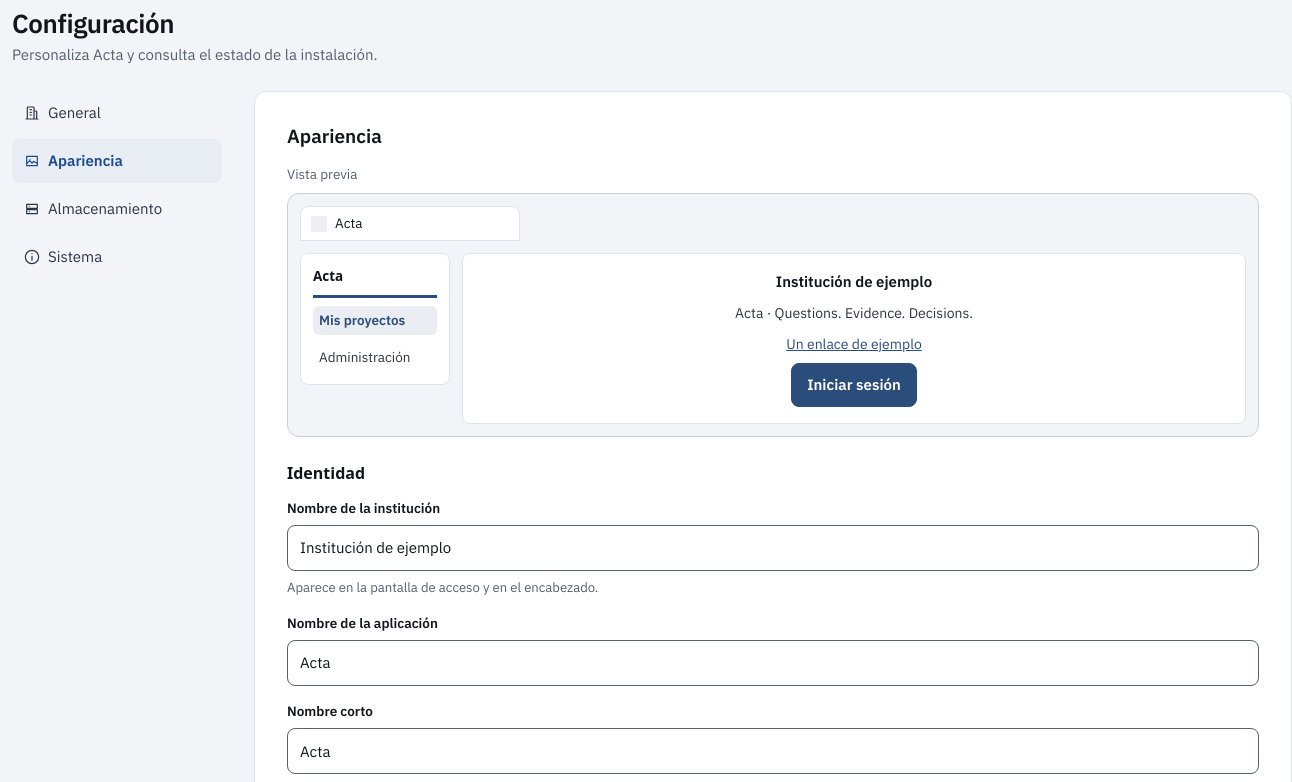
it: Apariencia reúne identidad, color e imágenes y guarda solo lo que cambió
The width and height of the screenshot is (1292, 782).
Clear the field labelled "Nombre de la institución": x=773, y=548 [287,525,1259,571]
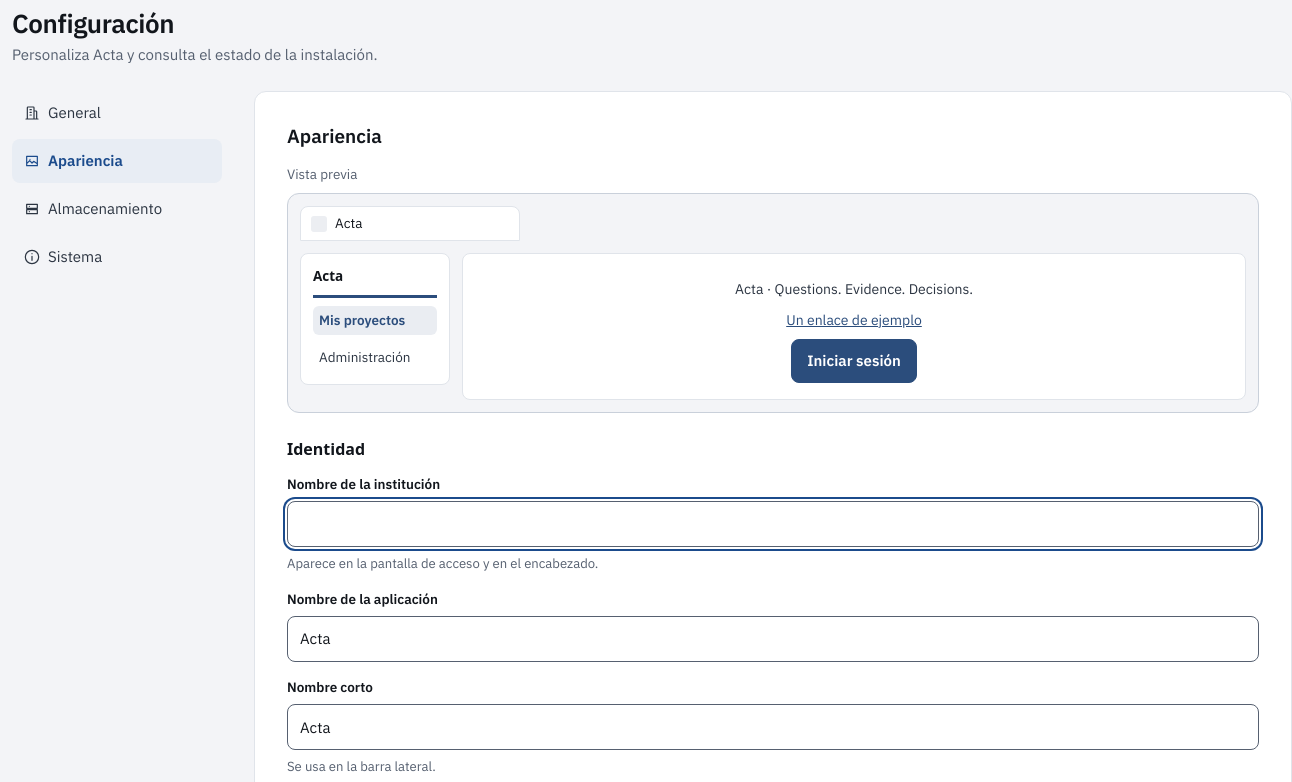
In the field labelled "Nombre de la institución": x=773, y=524 [287,501,1259,547], type "Nueva institución"
(page scrolled)
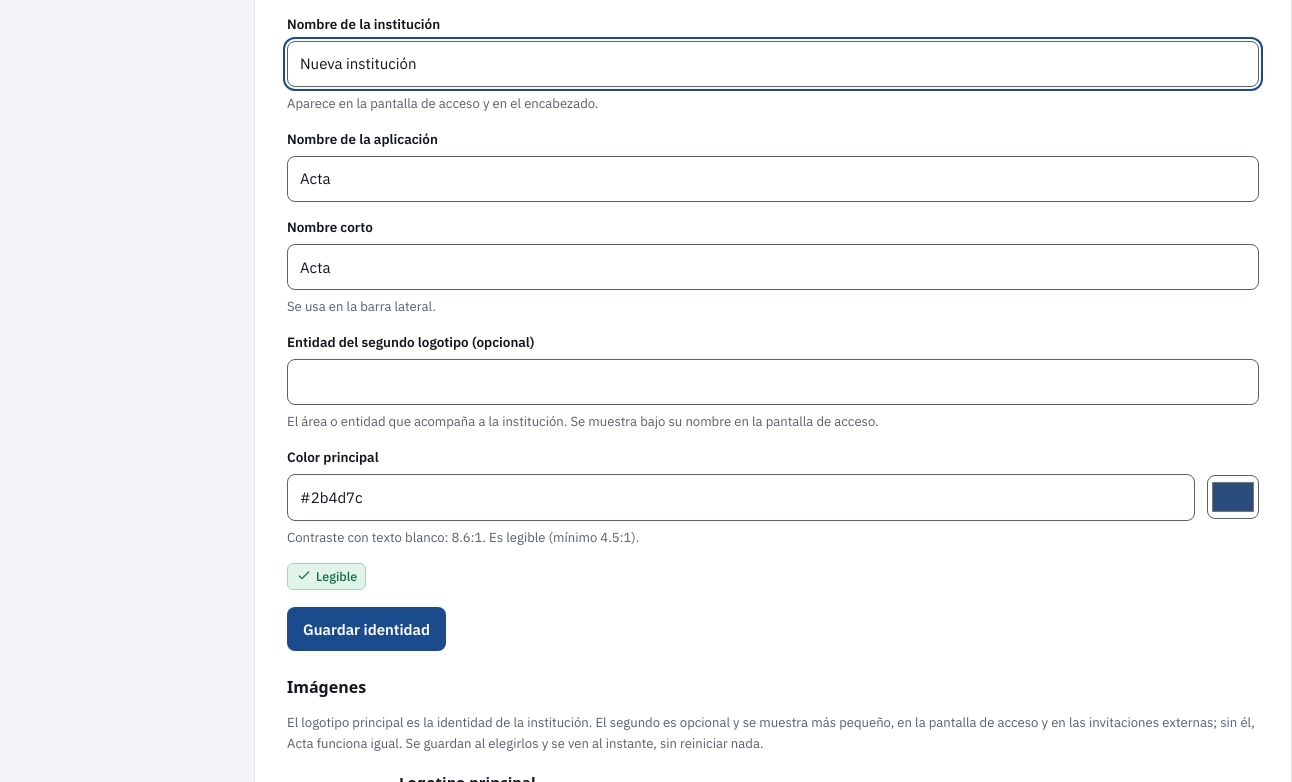
In the field labelled "Entidad del segundo logotipo (opcional)": x=773, y=382 [287,359,1259,406], type "Coordinación General"
(page scrolled)
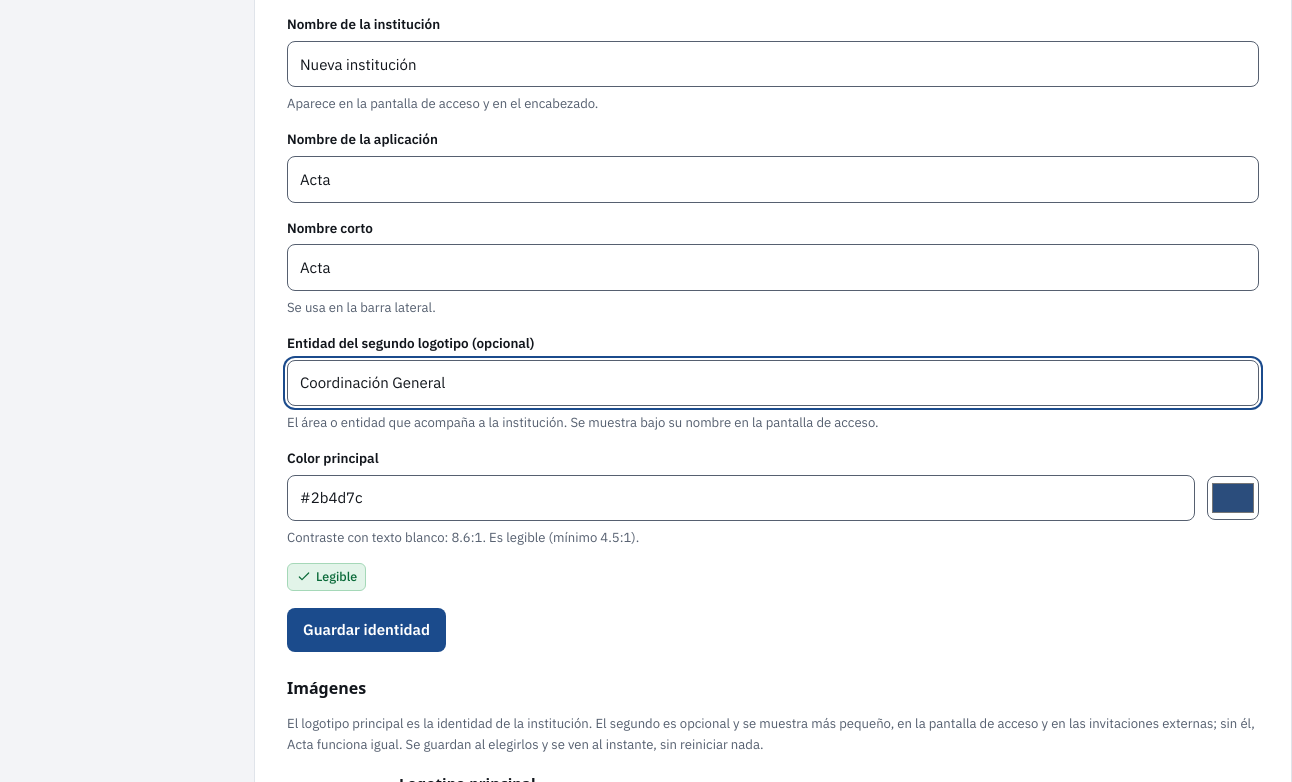
Click the button "Guardar identidad": x=366, y=630 [287,608,446,652]
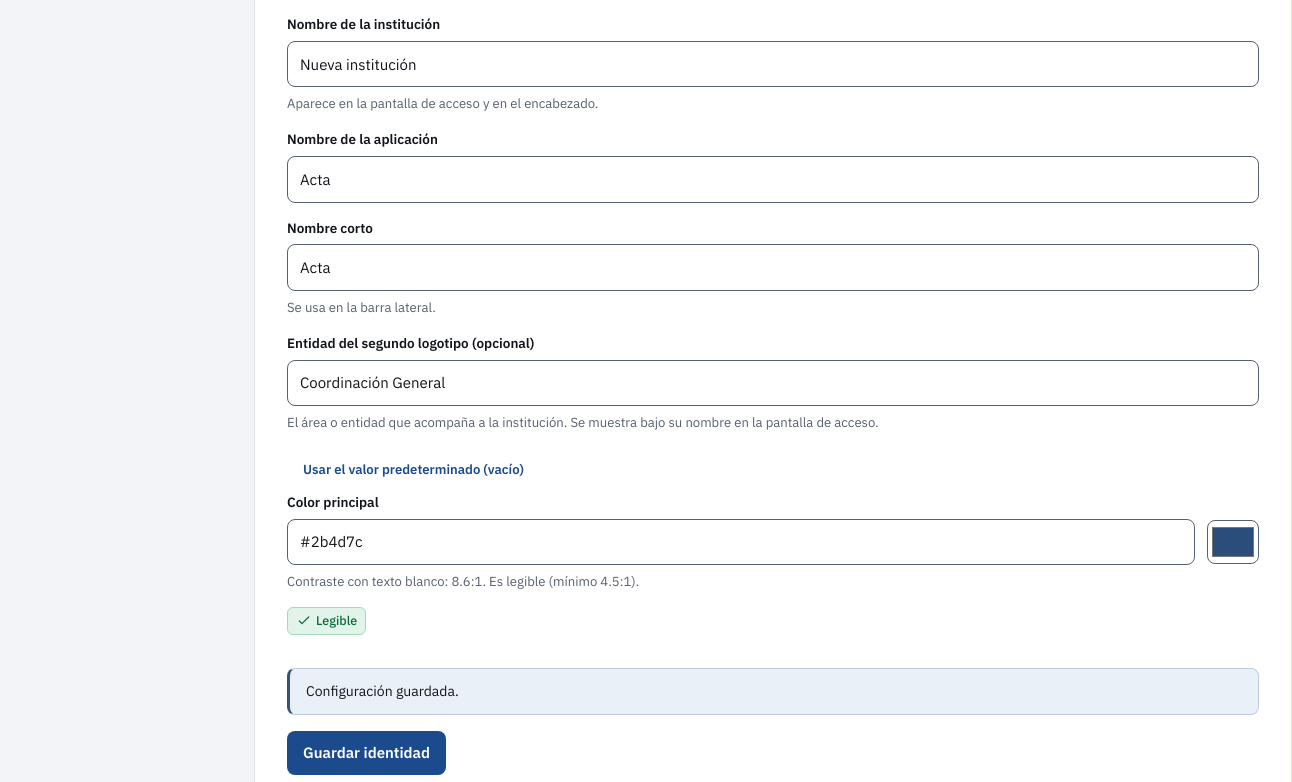
Check: the text "Configuración guardada." is shown, box [287,668,1259,715]
